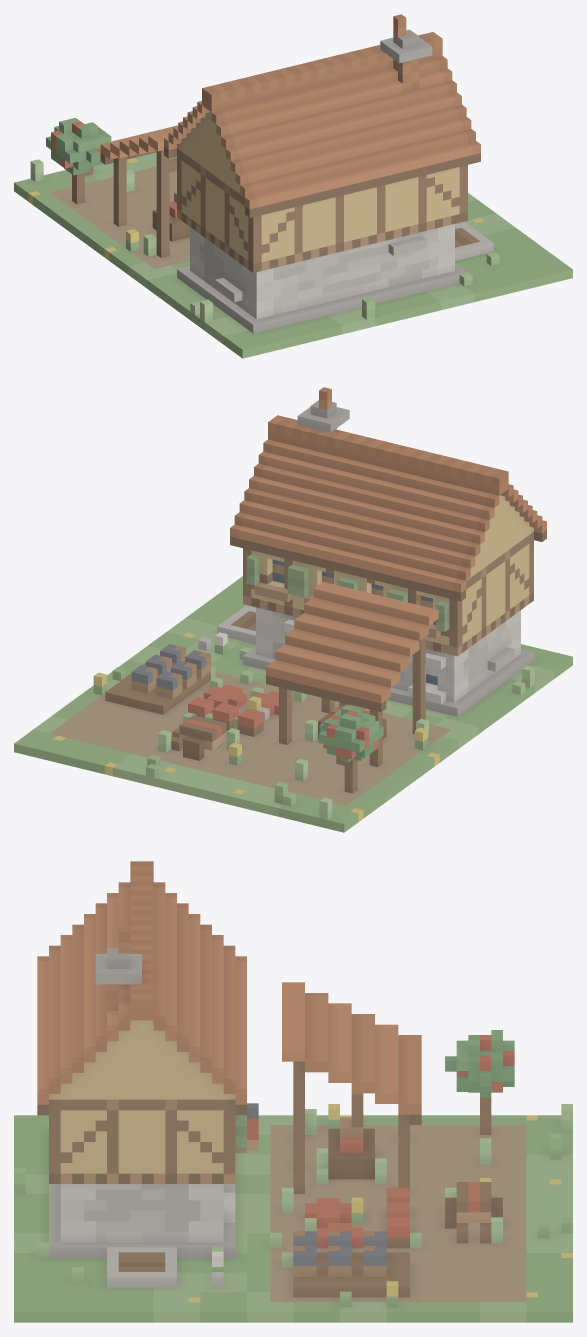
The model's file is cidery.glb.
3 renders of one model, top to bottom at view 1: azimuth 30°, elevation 25°; view 2: azimuth 150°, elevation 25°; view 3: azimuth 270°, elevation 25°, orthographic. The views are drawn at different scales.
Visible parts, largest first — view 1: cidery; view 2: cidery; view 3: cidery.
Part boxes in pixels (x1,y1,x2,y2): cidery: (14,14,572,358); cidery: (14,387,572,832); cidery: (14,861,572,1322).
Size of the model in its own units: 5 by 3.75 by 6.
